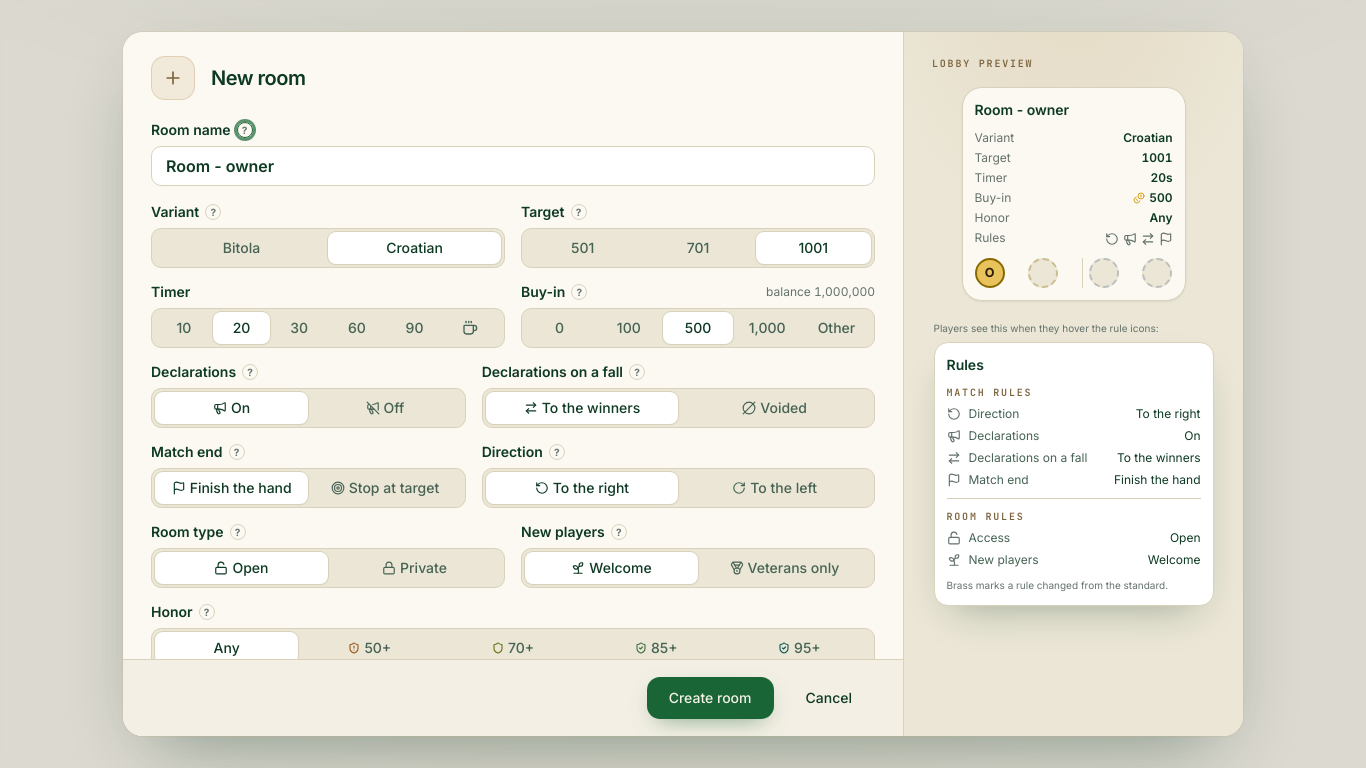
CreateRoomModal rules › hides declarations on a fall while declarations are off
Click the radio button with test id "declarations-transfer-segmented-void".
click(775, 408)  # box [678,392,871,424]
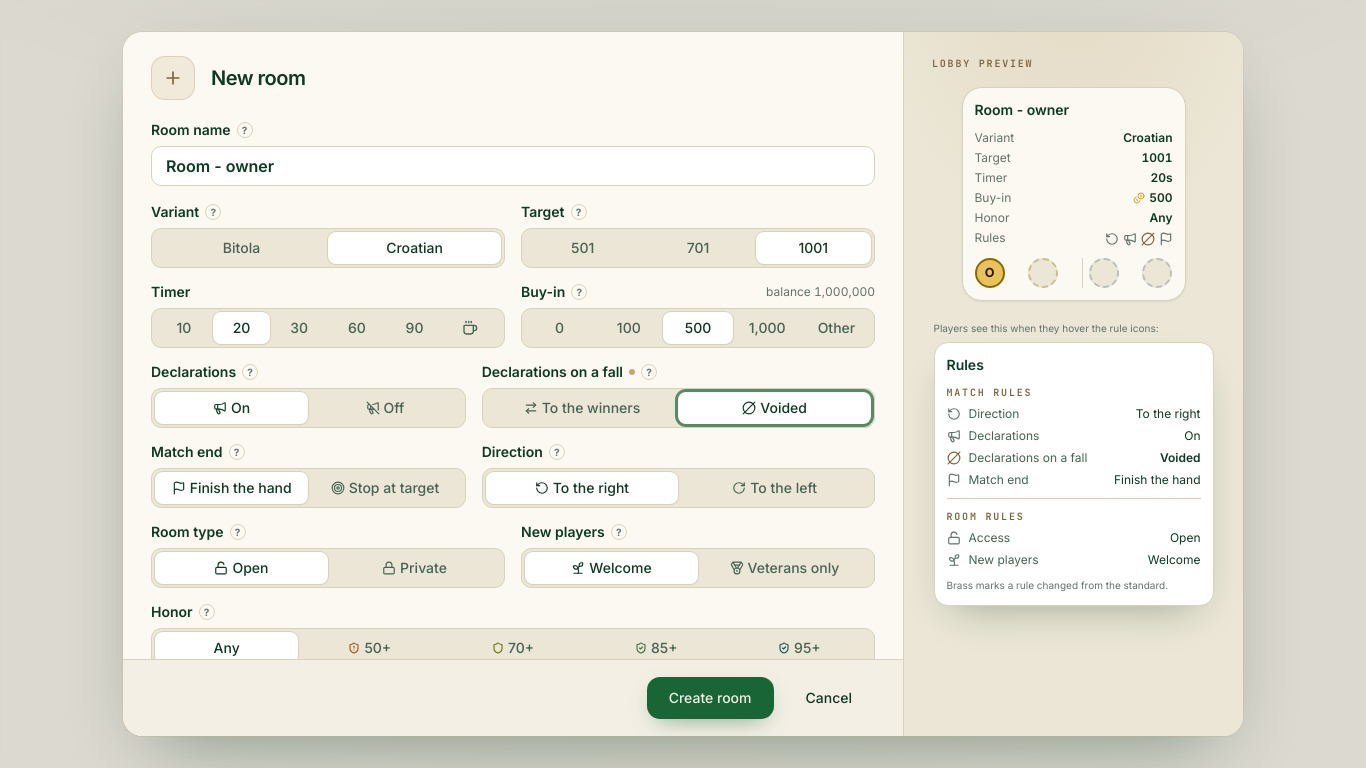
Click the radio button with test id "declarations-segmented-off".
click(385, 408)  # box [308,392,462,424]
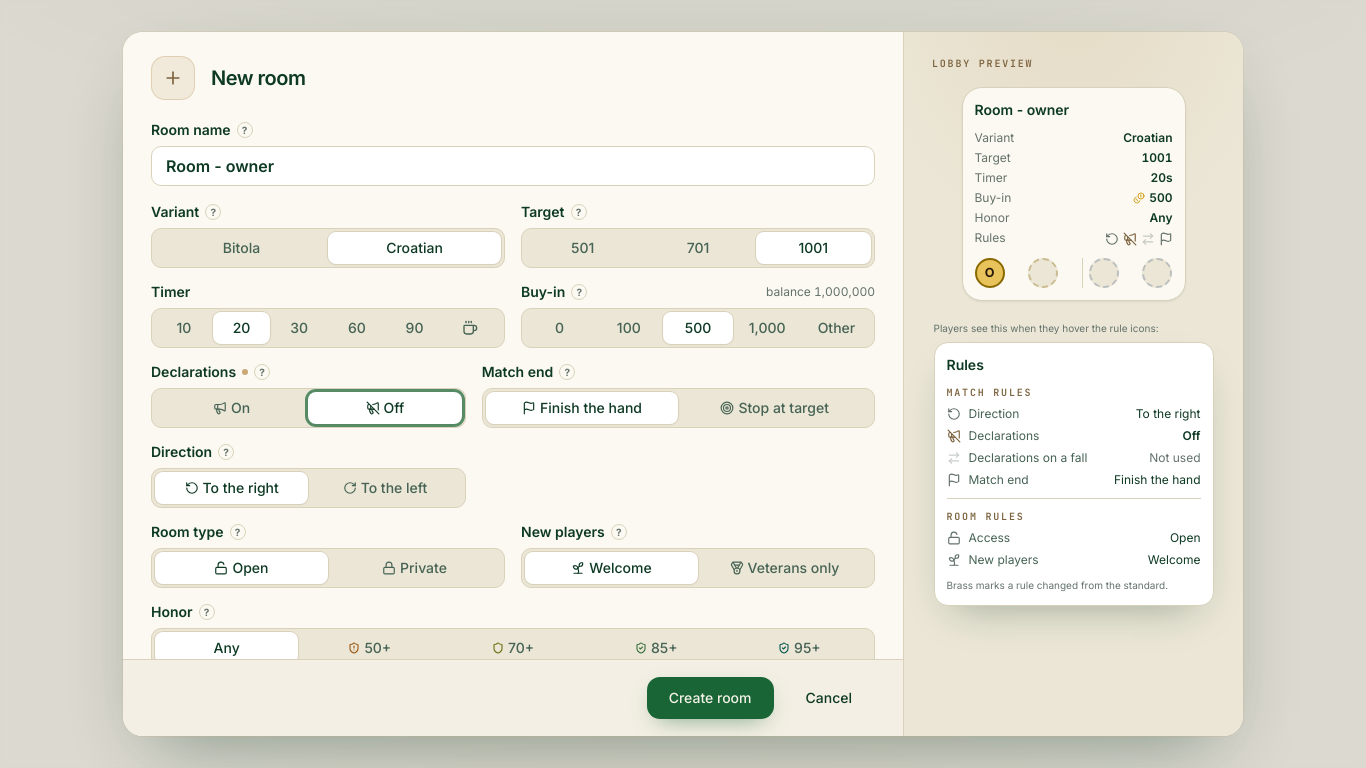
Expected: the button with test id "declarations-transfer-segmented" is gone
